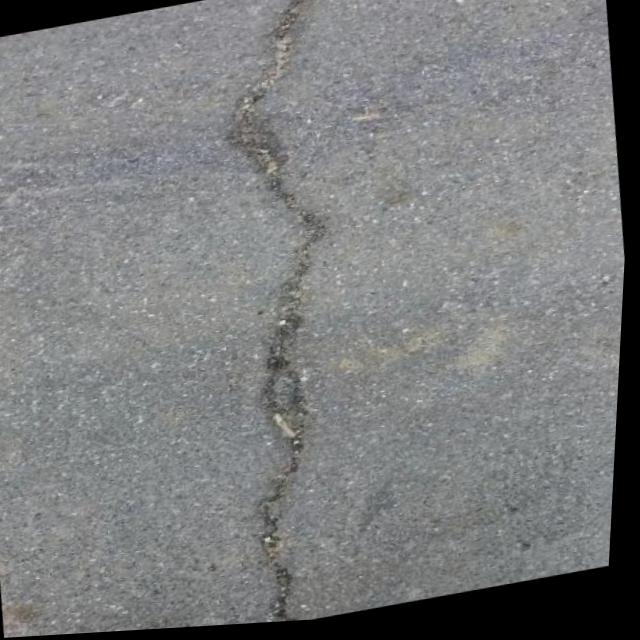Crack: (167, 0, 411, 631)
